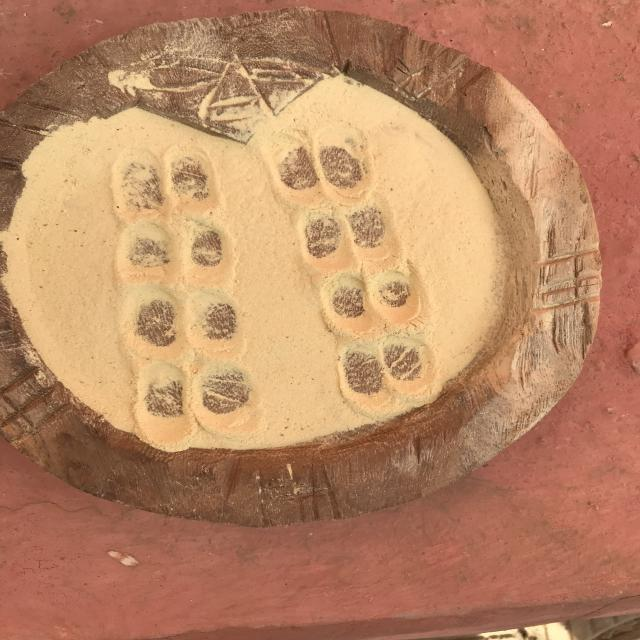double: (126, 359, 268, 448), (112, 287, 251, 363), (111, 218, 242, 294), (263, 127, 387, 207), (109, 140, 225, 223), (311, 266, 434, 338), (284, 207, 406, 275), (330, 331, 436, 407)
